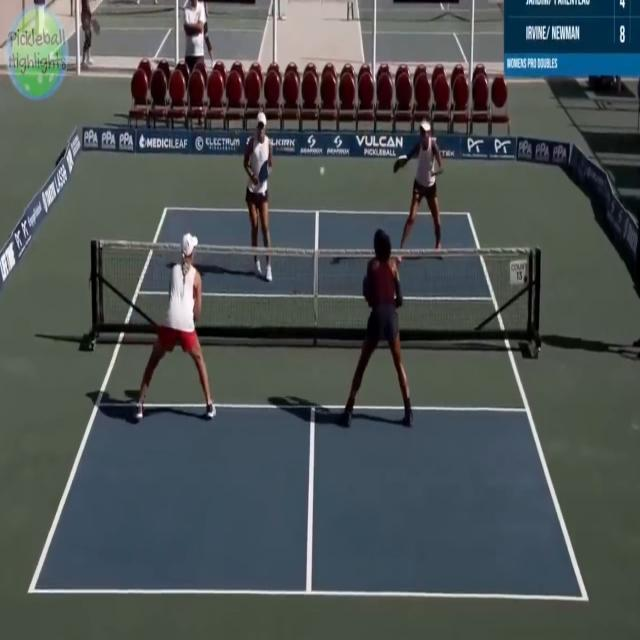Court: (32, 204, 586, 599)
ball: (316, 156, 331, 182)
